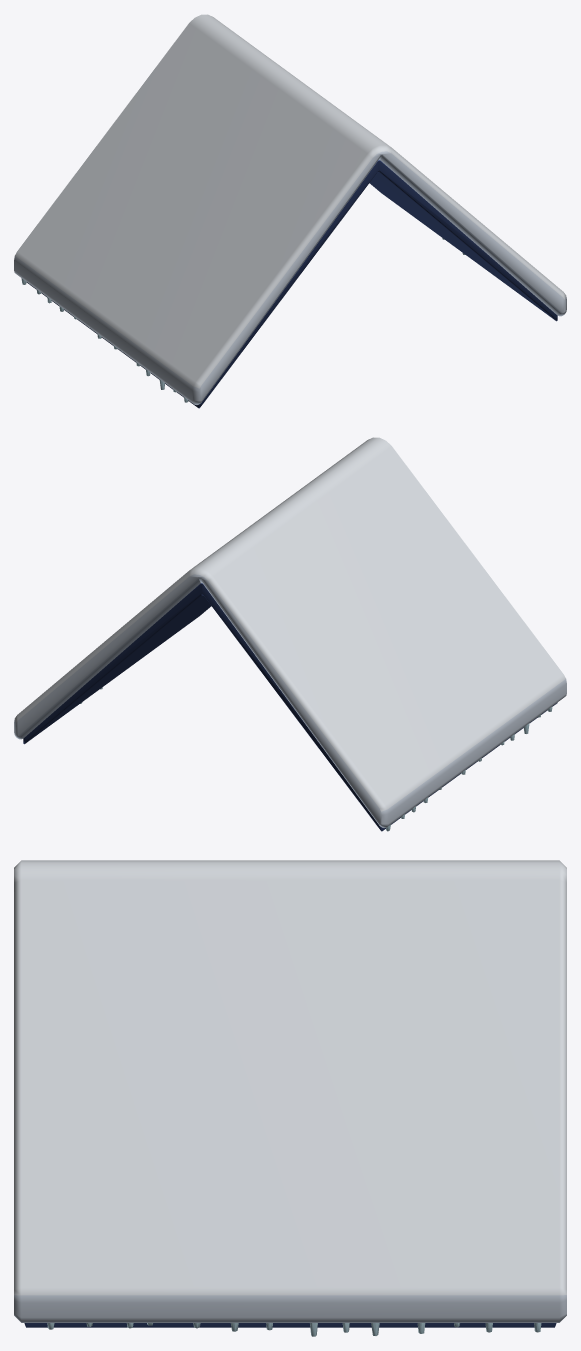
Rendered from CandyHouse_Lavender_Roof.glb.
The picture shows the model from 3 angles, top to bottom: view 1: azimuth 30°, elevation 25°; view 2: azimuth 150°, elevation 25°; view 3: azimuth 270°, elevation 25°; orthographic projection. The views are drawn at different scales.
Parts seen in each view (by area): view 1: CandyHouse_Lavender_Roof; view 2: CandyHouse_Lavender_Roof; view 3: CandyHouse_Lavender_Roof.
Boxes of the visible parts, box(x1,y1,x2,y2) form: CandyHouse_Lavender_Roof: box(14, 14, 566, 408); CandyHouse_Lavender_Roof: box(14, 437, 566, 831); CandyHouse_Lavender_Roof: box(14, 860, 566, 1336).
Size of the model in its own units: 24.2 by 13.92 by 20.5.
